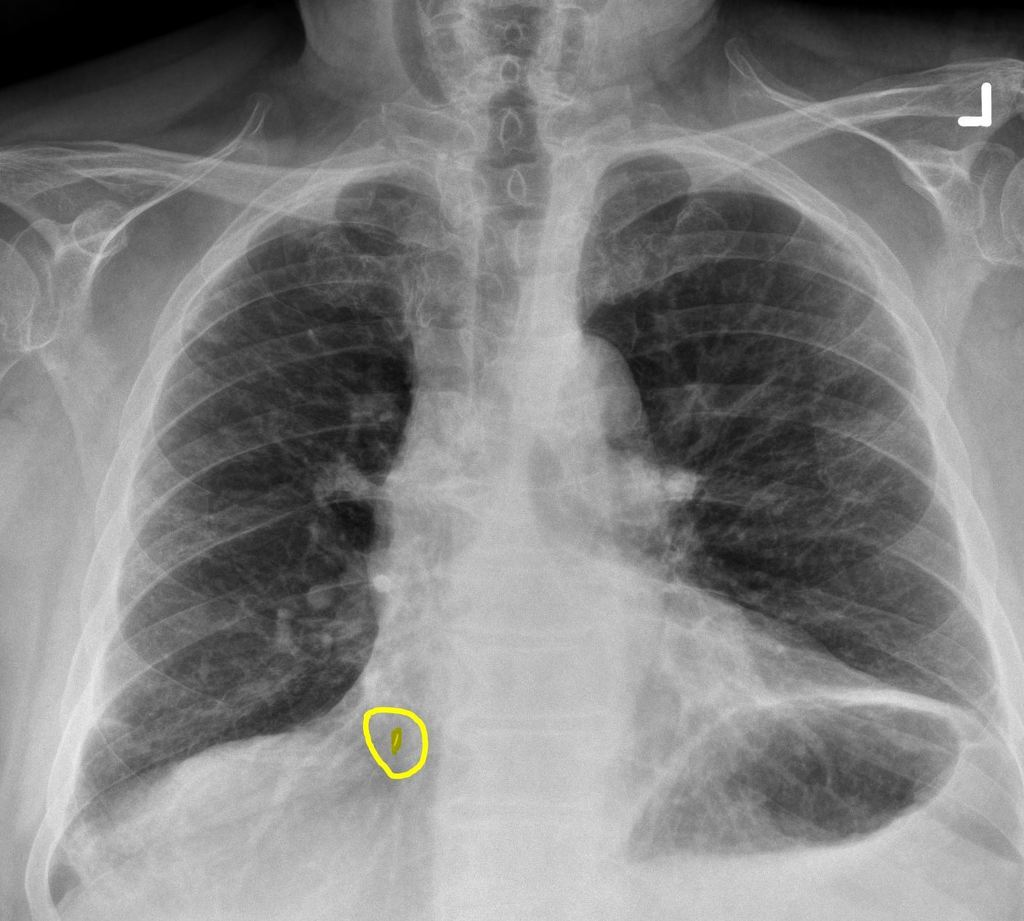cancer: (604, 212, 939, 698), (131, 243, 395, 727)
